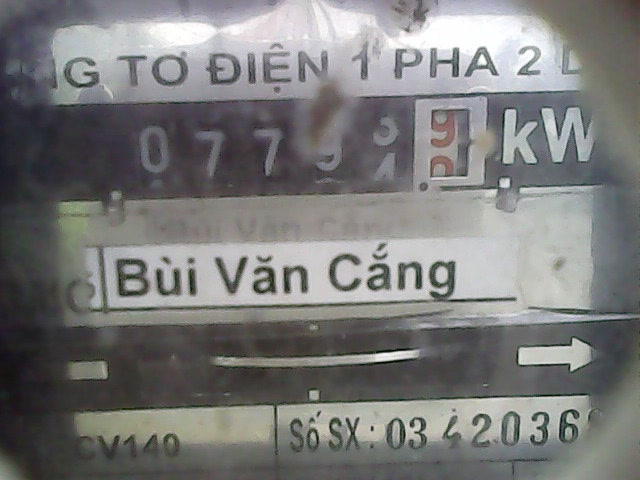phy_plate: (115, 95, 495, 195)
